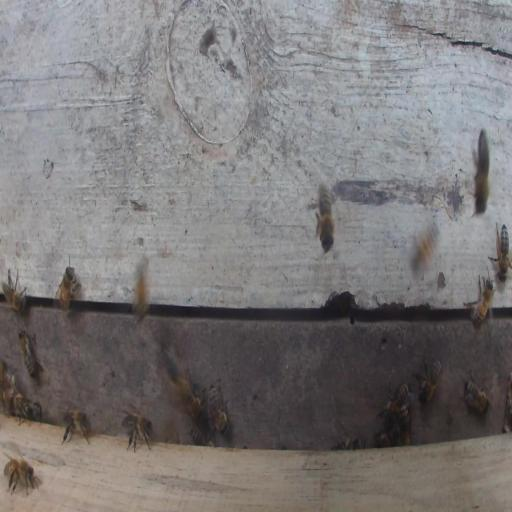nonpollenbee: (2, 452, 40, 497), (464, 275, 494, 330), (487, 222, 511, 283), (473, 126, 489, 217), (120, 411, 153, 453), (54, 256, 78, 313), (315, 183, 334, 253), (413, 358, 442, 403), (206, 380, 230, 434), (61, 407, 91, 446), (463, 373, 490, 414), (2, 269, 27, 313), (384, 382, 409, 423), (178, 379, 202, 421), (132, 258, 148, 320), (18, 329, 37, 378), (12, 394, 41, 424), (399, 404, 410, 445), (374, 428, 397, 447), (191, 428, 212, 447)
